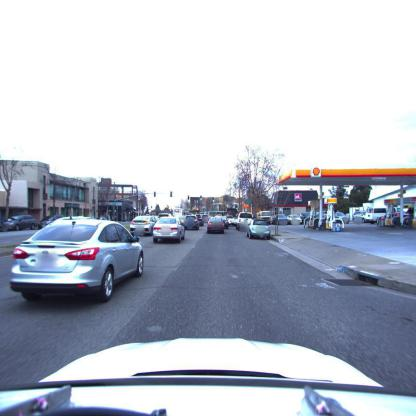car: (10, 219, 148, 302), (152, 217, 185, 245), (2, 215, 38, 231), (247, 219, 272, 241), (130, 215, 156, 236), (207, 216, 227, 233), (38, 216, 66, 228), (238, 211, 254, 231), (182, 215, 200, 230), (226, 214, 240, 229), (288, 214, 304, 225), (277, 215, 290, 225), (201, 215, 210, 226)
